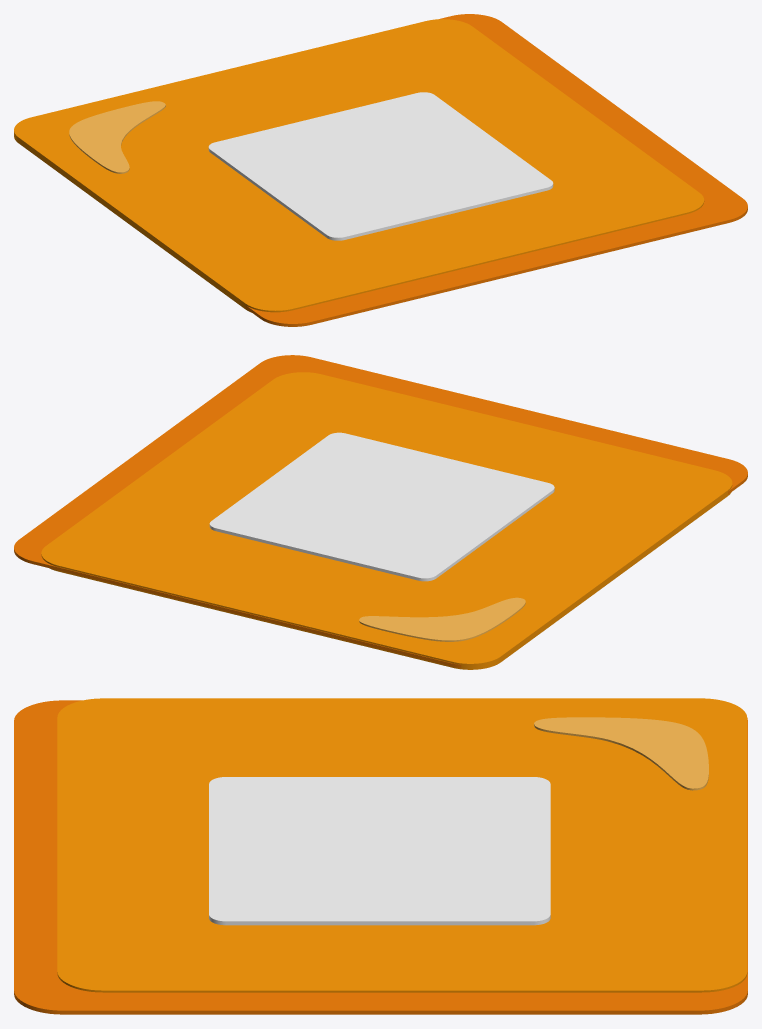
File: emoji_u23f9.glb
3 renders of one model, top to bottom at view 1: azimuth 30°, elevation 25°; view 2: azimuth 150°, elevation 25°; view 3: azimuth 270°, elevation 25°, orthographic. The views are drawn at different scales.
Visible parts, largest first — view 1: emoji_u23f9; view 2: emoji_u23f9; view 3: emoji_u23f9.
Part boxes in pixels (left/top/right/bottom): emoji_u23f9: left=14, top=14, right=747, bottom=326; emoji_u23f9: left=14, top=355, right=747, bottom=669; emoji_u23f9: left=14, top=698, right=747, bottom=1014.
Size of the model in its own units: 0.0339 by 0.0008 by 0.0339.
